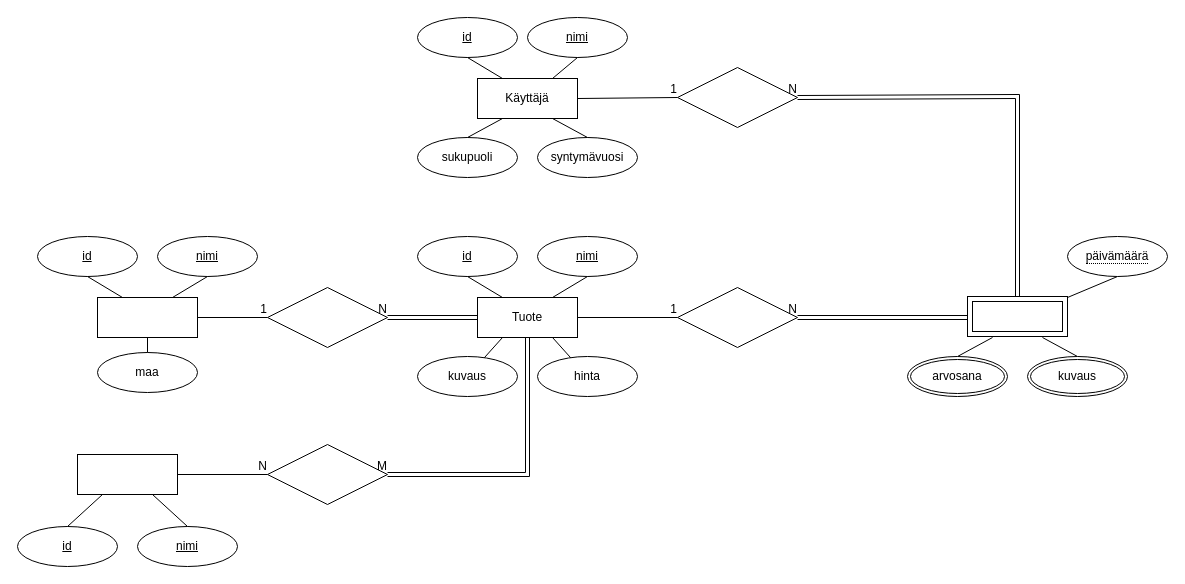
Image size: 1185x584. Some labels were removed from this diagram. Each missing label, with the box of its shape:
Entity: (966, 296, 1068, 336)
Kategoria: (76, 454, 178, 494)
kuuluu: (266, 444, 388, 504)
on: (676, 286, 798, 348)
sisältää: (266, 286, 388, 348)
tekee: (676, 66, 798, 128)
Tuotemerkki: (96, 296, 198, 338)
